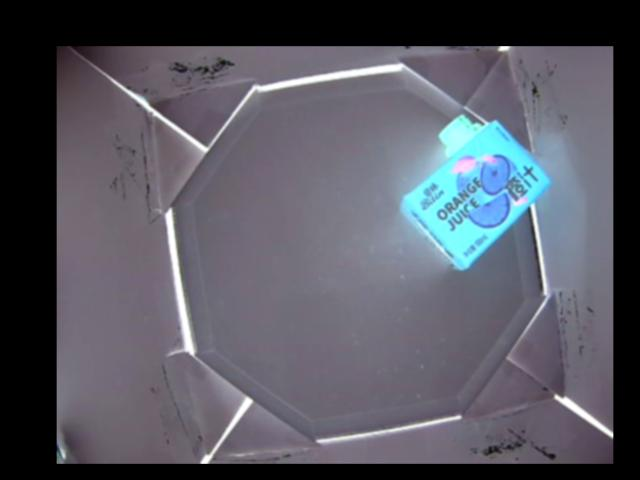Bottle: (396, 111, 553, 273)
